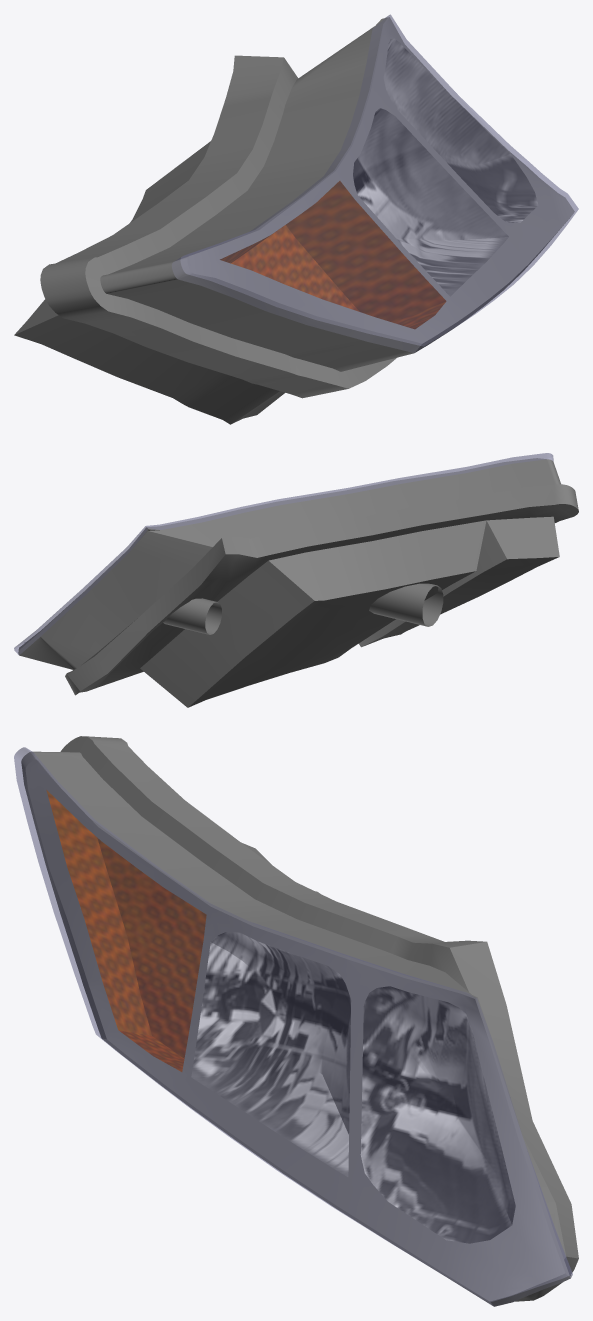
3 renders of one model, top to bottom at view 1: azimuth 30°, elevation 25°; view 2: azimuth 150°, elevation 25°; view 3: azimuth 270°, elevation 25°, orthographic. The views are drawn at different scales.
Visible parts, largest first — view 1: H033_061B_R_H033_061B_R_4_DaS, H033_061B_R_H033_061B_R_5_DTaSI, H033_061B_R_H033_061B_R_3_N, H033_061B_R_H033_061B_R_2_N, H033_061B_R_1_N_H033_061B_R; view 2: H033_061B_R_H033_061B_R_4_DaS, H033_061B_R_H033_061B_R_5_DTaSI; view 3: H033_061B_R_H033_061B_R_5_DTaSI, H033_061B_R_H033_061B_R_4_DaS, H033_061B_R_1_N_H033_061B_R, H033_061B_R_H033_061B_R_2_N, H033_061B_R_H033_061B_R_3_N.
Part boxes in pixels (<box>): H033_061B_R_H033_061B_R_4_DaS: <box>14,17,574,424</box>; H033_061B_R_H033_061B_R_5_DTaSI: <box>172,14,578,352</box>; H033_061B_R_H033_061B_R_3_N: <box>220,181,446,329</box>; H033_061B_R_H033_061B_R_2_N: <box>353,108,508,296</box>; H033_061B_R_1_N_H033_061B_R: <box>383,38,537,222</box>; H033_061B_R_H033_061B_R_4_DaS: <box>18,458,578,707</box>; H033_061B_R_H033_061B_R_5_DTaSI: <box>14,453,553,654</box>; H033_061B_R_H033_061B_R_5_DTaSI: <box>14,747,572,1306</box>; H033_061B_R_H033_061B_R_4_DaS: <box>21,736,578,1306</box>; H033_061B_R_1_N_H033_061B_R: <box>360,986,515,1243</box>; H033_061B_R_H033_061B_R_2_N: <box>191,932,351,1176</box>; H033_061B_R_H033_061B_R_3_N: <box>46,790,206,1071</box>.
Bounding box in the file's own units: 54.09 × 25.2 × 39.61.
